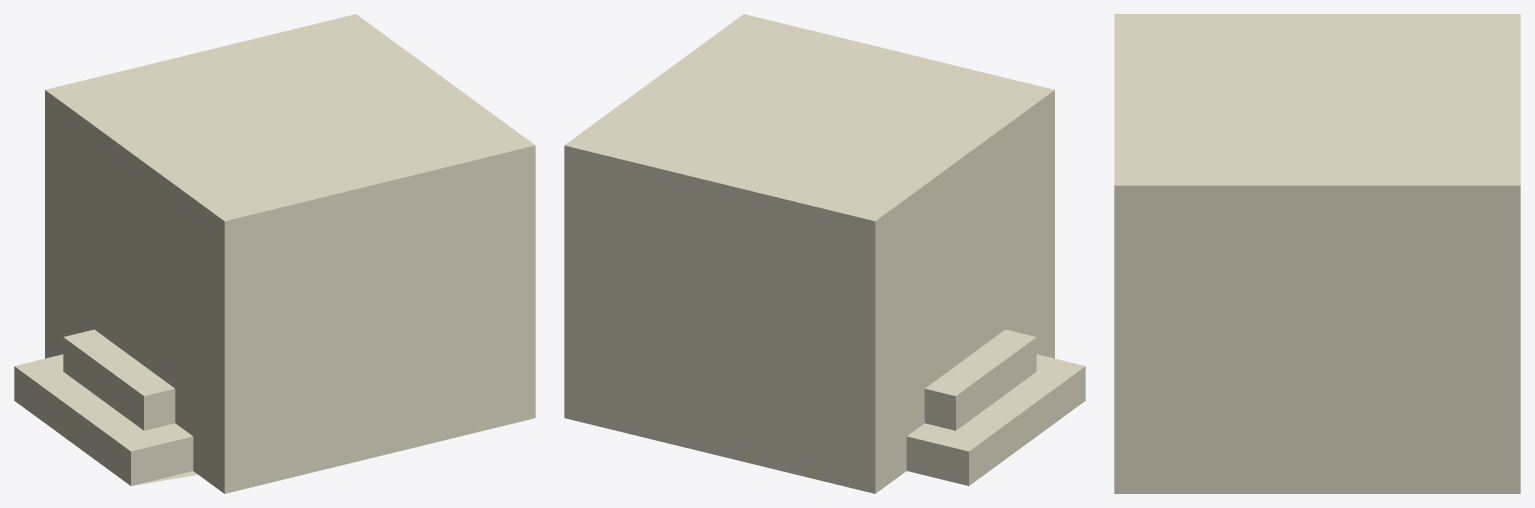
File: modularbuildings_026.glb
3 renders of one model, left to right at view 1: azimuth 30°, elevation 25°; view 2: azimuth 150°, elevation 25°; view 3: azimuth 270°, elevation 25°, orthographic. The views are drawn at different scales.
Visible parts, largest first — view 1: Mesh1 Group1 Model; view 2: Mesh1 Group1 Model; view 3: Mesh1 Group1 Model.
Part boxes in pixels (x1,y1,x2,y2): Mesh1 Group1 Model: [14, 14, 535, 493]; Mesh1 Group1 Model: [564, 14, 1085, 493]; Mesh1 Group1 Model: [1114, 14, 1520, 493].
Bounding box in the file's own units: 1.2 × 0.8375 × 1.
